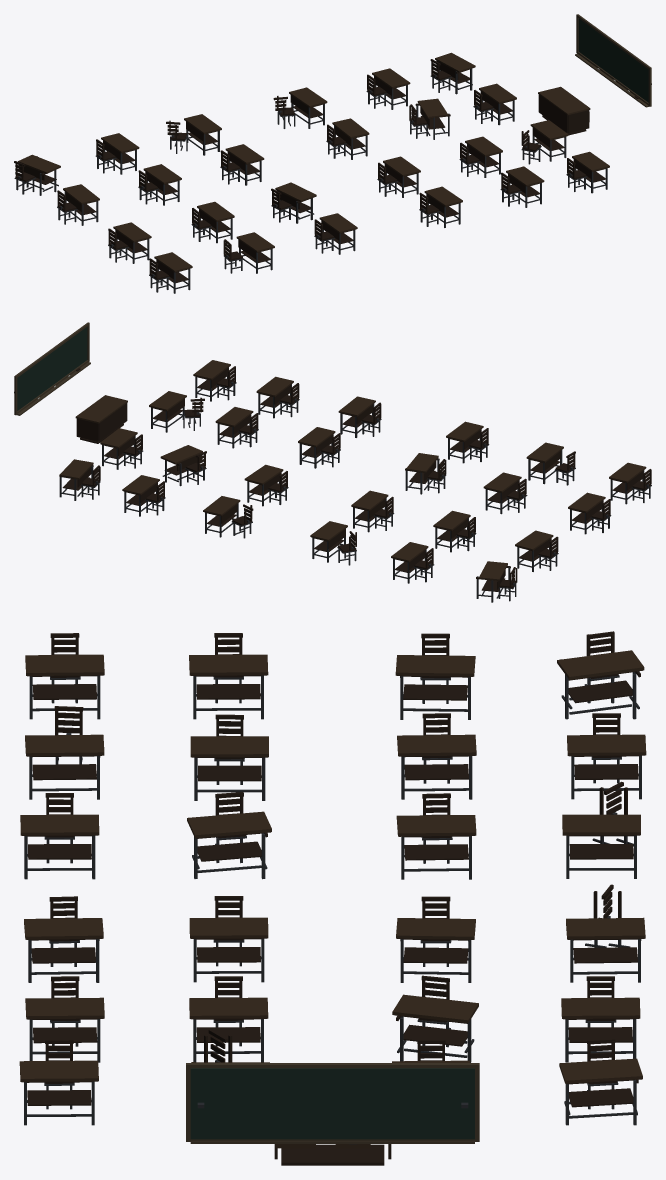
The model's file is classroom_m1_v01.glb.
The picture shows the model from 3 angles, top to bottom: view 1: azimuth 30°, elevation 25°; view 2: azimuth 150°, elevation 25°; view 3: azimuth 270°, elevation 25°; orthographic projection. The views are drawn at different scales.
Parts seen in each view (by area): view 1: M1_WoodDark, M1_Wood, M1_Metal, M1_Board, M1_Trim; view 2: M1_WoodDark, M1_Wood, M1_Metal, M1_Board, M1_Trim; view 3: M1_WoodDark, M1_Wood, M1_Board, M1_Metal, M1_Trim.
Boxes of the visible parts, box(x1,y1,x2,y2) form: M1_WoodDark: box(14, 59, 638, 282); M1_Wood: box(18, 52, 609, 272); M1_Metal: box(14, 68, 651, 293); M1_Board: box(578, 18, 648, 102); M1_Trim: box(575, 14, 651, 107); M1_WoodDark: box(59, 366, 651, 591); M1_Wood: box(59, 360, 646, 580); M1_Metal: box(14, 376, 651, 602); M1_Board: box(17, 327, 87, 410); M1_Trim: box(14, 322, 90, 415); M1_WoodDark: box(21, 631, 644, 1165); M1_Wood: box(19, 650, 646, 1148); M1_Board: box(190, 1068, 474, 1139); M1_Metal: box(24, 672, 641, 1144); M1_Trim: box(186, 1063, 479, 1143).
Bounding box in the file's own units: 18.22 × 2.33 × 9.26.
